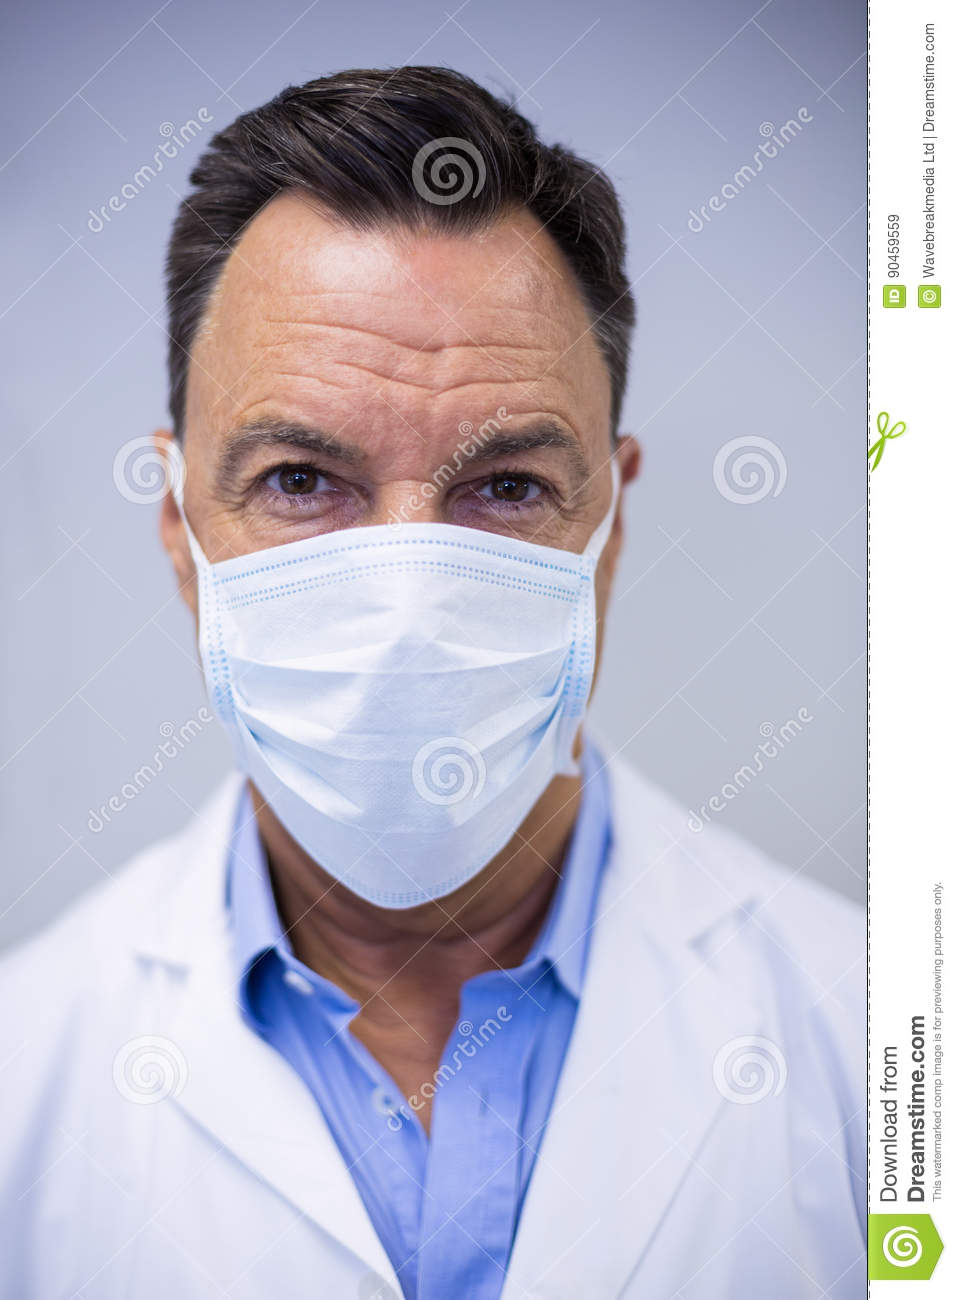mask: (178, 505, 602, 903)
